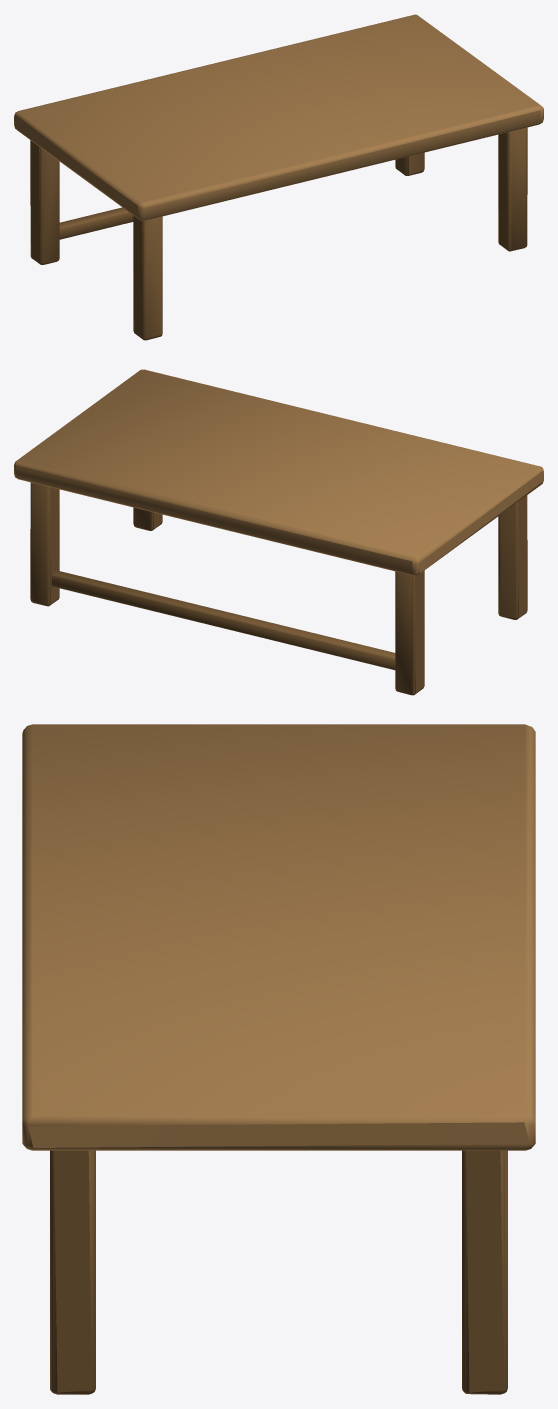
The model's file is ban_nhao.glb.
3 renders of one model, top to bottom at view 1: azimuth 30°, elevation 25°; view 2: azimuth 150°, elevation 25°; view 3: azimuth 270°, elevation 25°, orthographic. The views are drawn at different scales.
Visible parts, largest first — view 1: ban_nhao; view 2: ban_nhao; view 3: ban_nhao.
Boxes of the visible parts, left/top/right/bottom form: ban_nhao: left=14, top=14, right=543, bottom=340; ban_nhao: left=14, top=369, right=543, bottom=695; ban_nhao: left=22, top=724, right=535, bottom=1394.
Size of the model in its own units: 0.9987 by 0.3414 by 0.5486.
